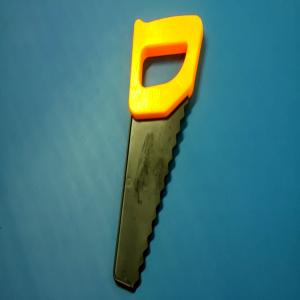serrote: (112, 14, 204, 292)
